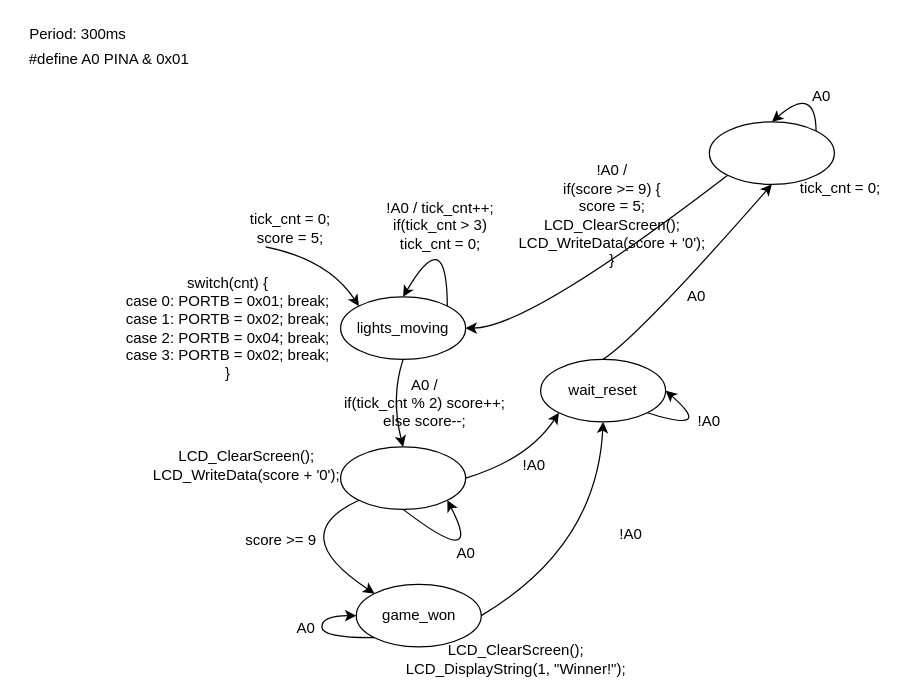
Image size: 905x699. Some labels were removed from this diagram. Here are the shapes that lost their labels. From the top down, the box of each, then its label:
(708, 121, 834, 184): release_to_reset
(339, 446, 466, 509): lights_stopped
